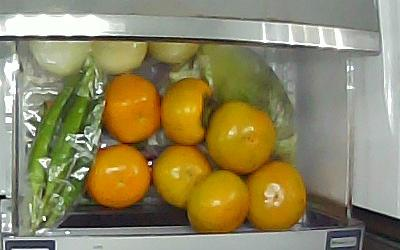persimmon: (206, 101, 275, 175), (244, 162, 306, 232), (86, 144, 151, 210), (186, 170, 249, 233), (102, 75, 160, 142), (153, 146, 211, 209), (162, 77, 213, 146)
